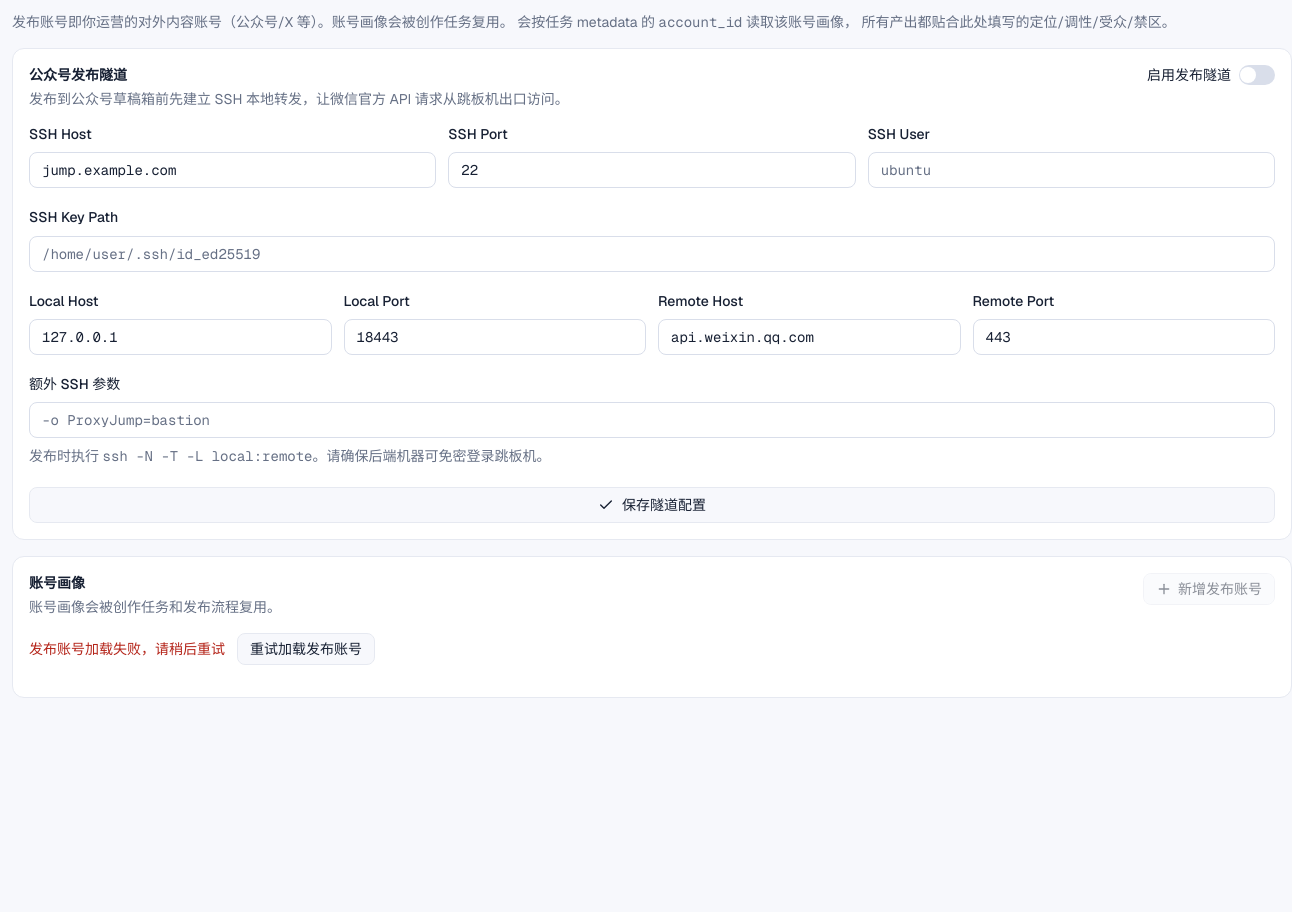
Test: PublishAccountsSection › keeps loaded tunnel settings writable while account loading fails and retries accounts independently
This screenshot has width=1292, height=912.
Expected: the button "保存隧道配置" is enabled, x1=29 y1=487 x2=1275 y2=523
Expected: the field labelled "SSH Host" holds "jump.example.com", x1=29 y1=152 x2=436 y2=188
Step 1. Click the button "重试加载发布账号" → {"x": 306, "y": 649}, box x1=237 y1=633 x2=375 y2=665
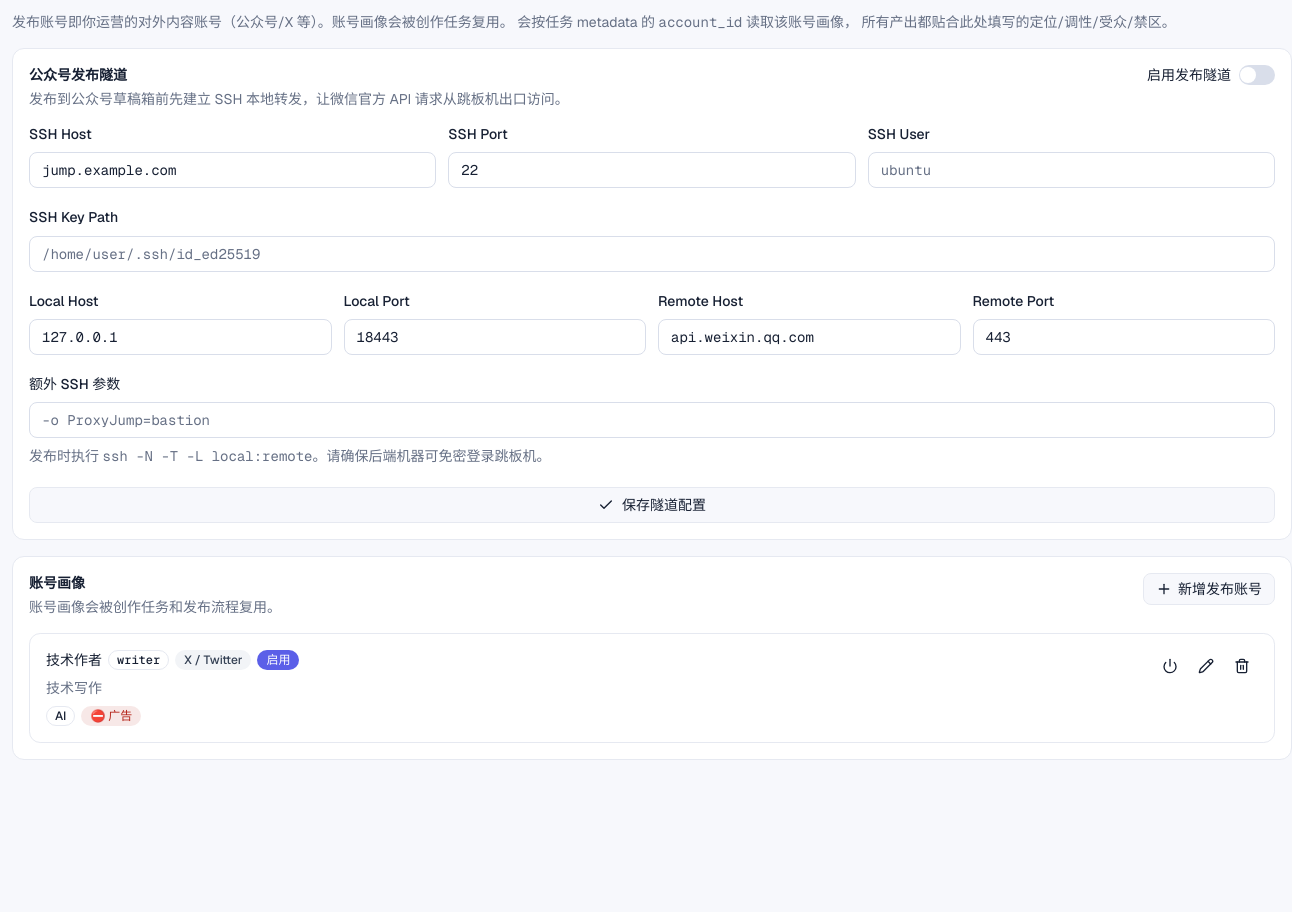
Now the text "技术作者" is shown, box x1=46 y1=650 x2=102 y2=670
Now the button "新增发布账号" is enabled, box x1=1143 y1=573 x2=1275 y2=605
